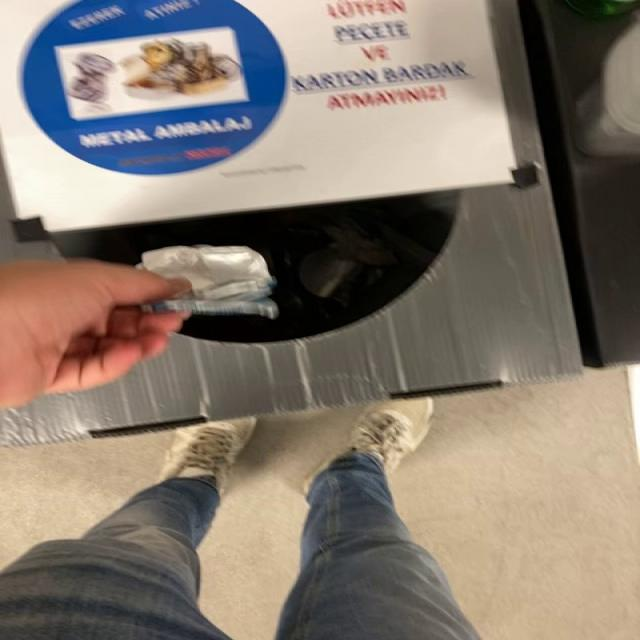bin: (1, 0, 581, 446)
metal: (138, 246, 279, 318)
